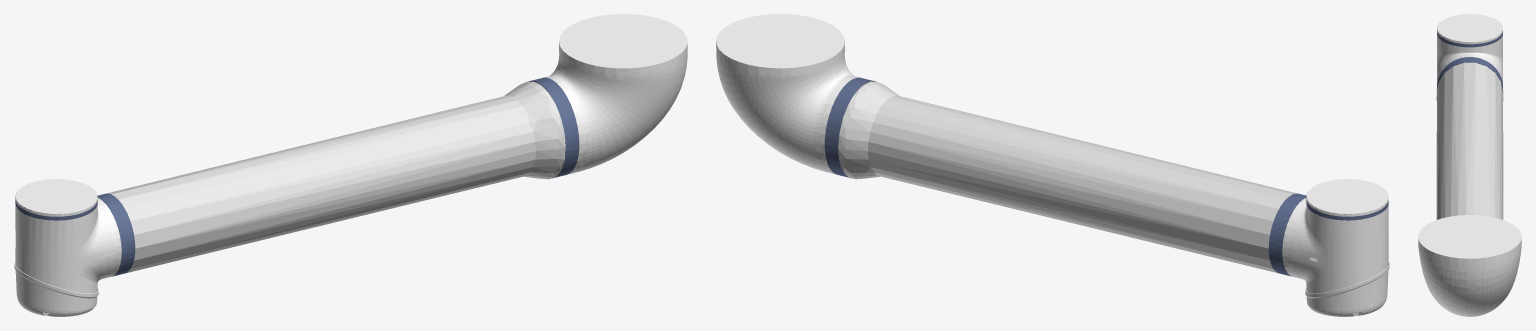
The model's file is forearm.dae.
3 renders of one model, left to right at view 1: azimuth 30°, elevation 25°; view 2: azimuth 150°, elevation 25°; view 3: azimuth 270°, elevation 25°, orthographic. The views are drawn at different scales.
Parts seen in each view (by area): view 1: cs620_link3_part3, cs620_link3_part1, cs620_link3_part2; view 2: cs620_link3_part3, cs620_link3_part1, cs620_link3_part2; view 3: cs620_link3_part1, cs620_link3_part3, cs620_link3_part2.
Part boxes in pixels (bbox=[...]): cs620_link3_part3: bbox=[106, 81, 565, 273]; cs620_link3_part1: bbox=[14, 14, 687, 316]; cs620_link3_part2: bbox=[15, 77, 579, 276]; cs620_link3_part3: bbox=[838, 81, 1297, 272]; cs620_link3_part1: bbox=[716, 14, 1389, 316]; cs620_link3_part2: bbox=[824, 77, 1388, 276]; cs620_link3_part1: bbox=[1418, 14, 1521, 316]; cs620_link3_part3: bbox=[1436, 62, 1503, 219]; cs620_link3_part2: bbox=[1437, 32, 1502, 90].
Bounding box in the file's own units: 0.8979 × 0.152 × 0.1668.
